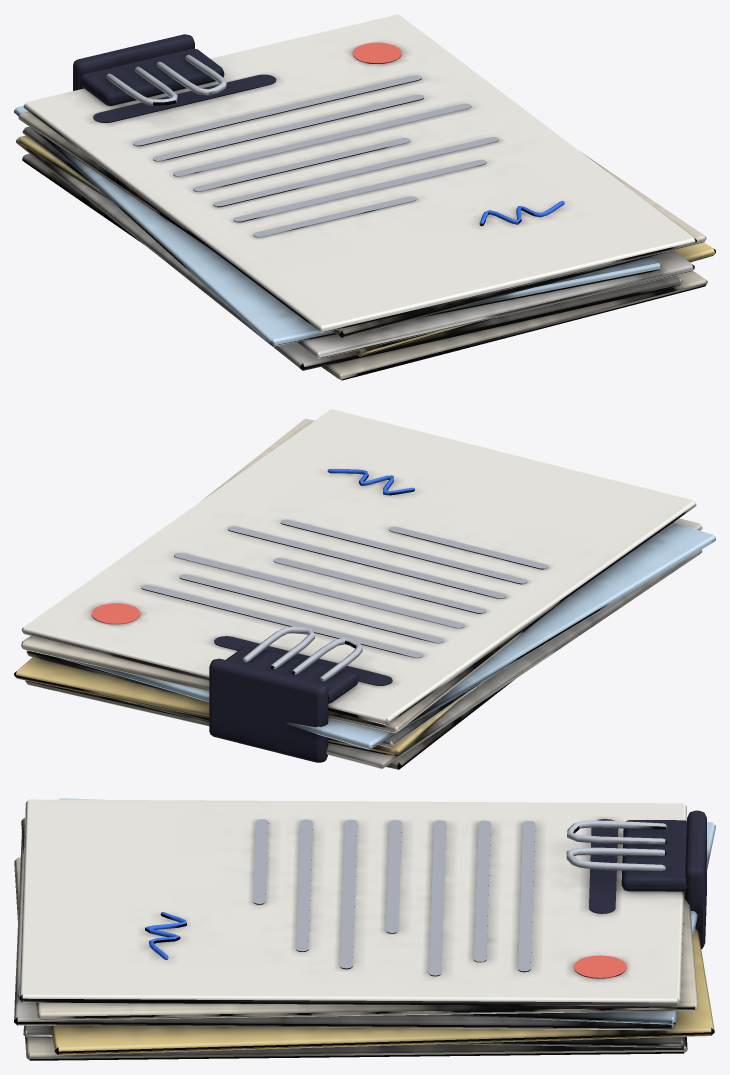
The model's file is paper_stack.glb.
3 renders of one model, top to bottom at view 1: azimuth 30°, elevation 25°; view 2: azimuth 150°, elevation 25°; view 3: azimuth 270°, elevation 25°, orthographic. The views are drawn at different scales.
Visible parts, largest first — view 1: paper_stack; view 2: paper_stack; view 3: paper_stack.
Part boxes in pixels (bbox=[...]): paper_stack: bbox=[14, 14, 715, 380]; paper_stack: bbox=[14, 409, 715, 769]; paper_stack: bbox=[14, 798, 715, 1060].
Size of the model in its own units: 0.2494 by 0.0414 by 0.3152.
10 materials, 10 textured.
